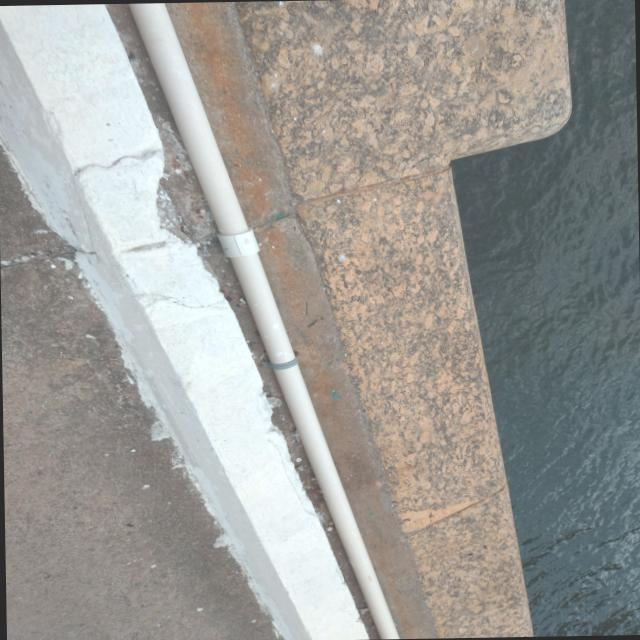gas: (129, 3, 400, 639)
